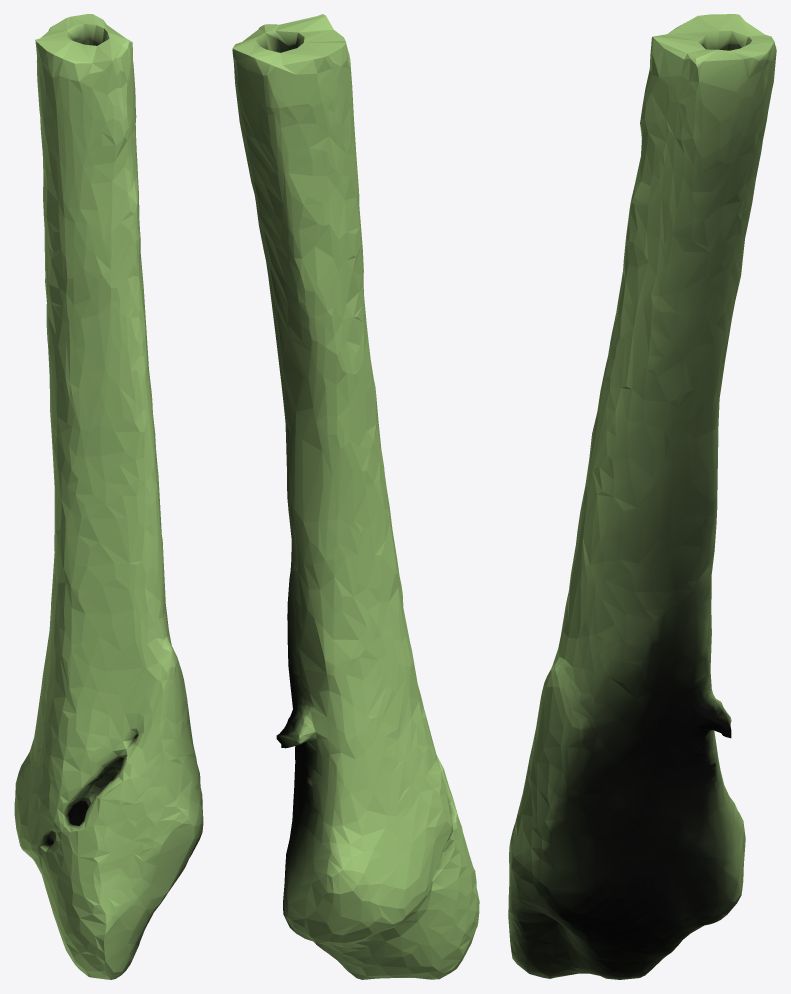
The model's file is Geometry1_lao.dae.
3 views of the same model, side by side, from view 1: azimuth 30°, elevation 25°; view 2: azimuth 150°, elevation 25°; view 3: azimuth 270°, elevation 25° (orthographic). The views are drawn at different scales.
Parts seen in each view (by area): view 1: node; view 2: node; view 3: node.
Boxes of the visible parts, box(x1,y1,x2,y2) form: node: box(14, 14, 203, 979); node: box(232, 14, 479, 979); node: box(508, 14, 776, 979).
Bounding box in the file's own units: 19.83 × 127 × 31.93.
